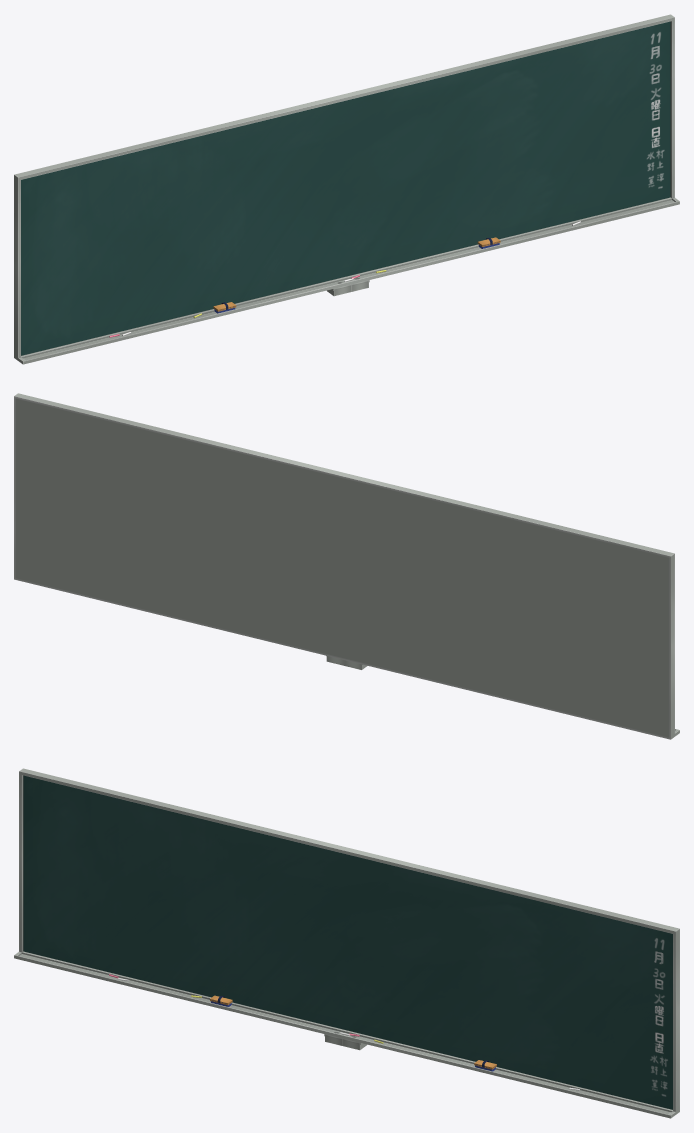
The model's file is Blackboard_01_01.fbx.
The picture shows the model from 3 angles, top to bottom: view 1: azimuth 30°, elevation 25°; view 2: azimuth 150°, elevation 25°; view 3: azimuth 330°, elevation 25°; orthographic projection.
Visible parts, largest first — view 1: blackboard01; view 2: blackboard01; view 3: blackboard01.
Part boxes in pixels (<box>): blackboard01: <box>14,14,679,364</box>; blackboard01: <box>14,393,679,739</box>; blackboard01: <box>14,768,679,1118</box>.
Bounding box in the file's own units: 450 × 125 × 10.83.
